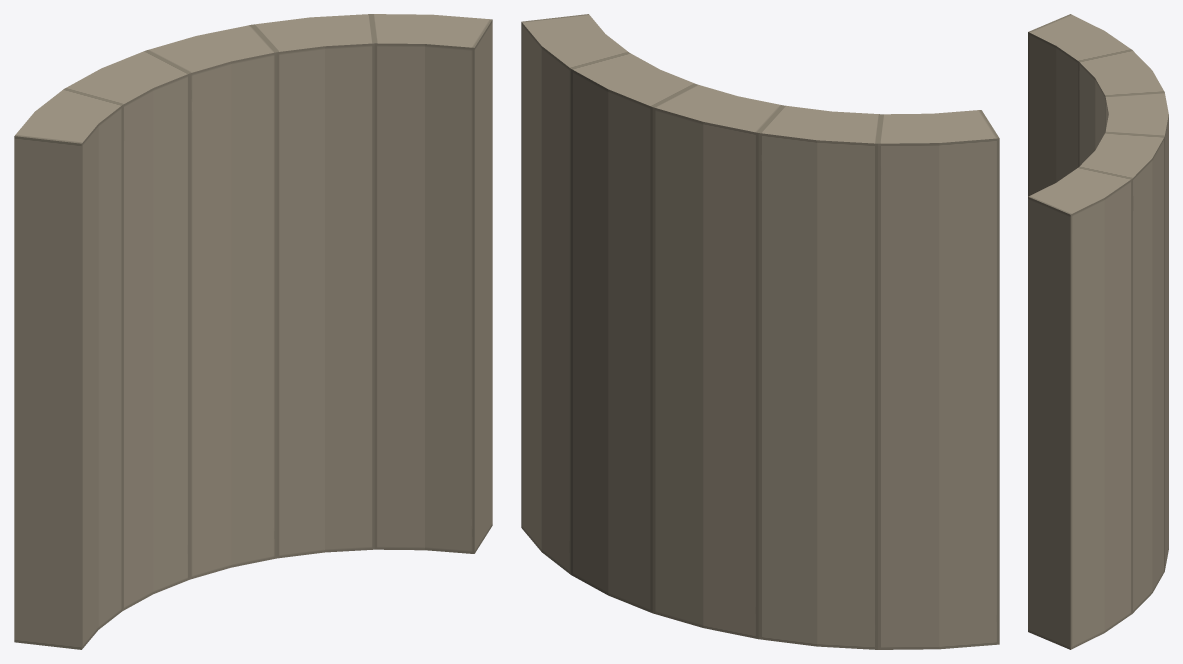
The model's file is Wall1_Round_Modular.fbx.
3 renders of one model, left to right at view 1: azimuth 30°, elevation 25°; view 2: azimuth 150°, elevation 25°; view 3: azimuth 270°, elevation 25°, orthographic. The views are drawn at different scales.
Visible parts, largest first — view 1: Wall_1_Round; view 2: Wall_1_Round; view 3: Wall_1_Round.
Part boxes in pixels (bbox=[...]): Wall_1_Round: bbox=[14, 14, 492, 649]; Wall_1_Round: bbox=[521, 14, 999, 649]; Wall_1_Round: bbox=[1028, 14, 1168, 649].
Size of the model in its own units: 395 by 117 by 400.
1 material, 1 textured.
